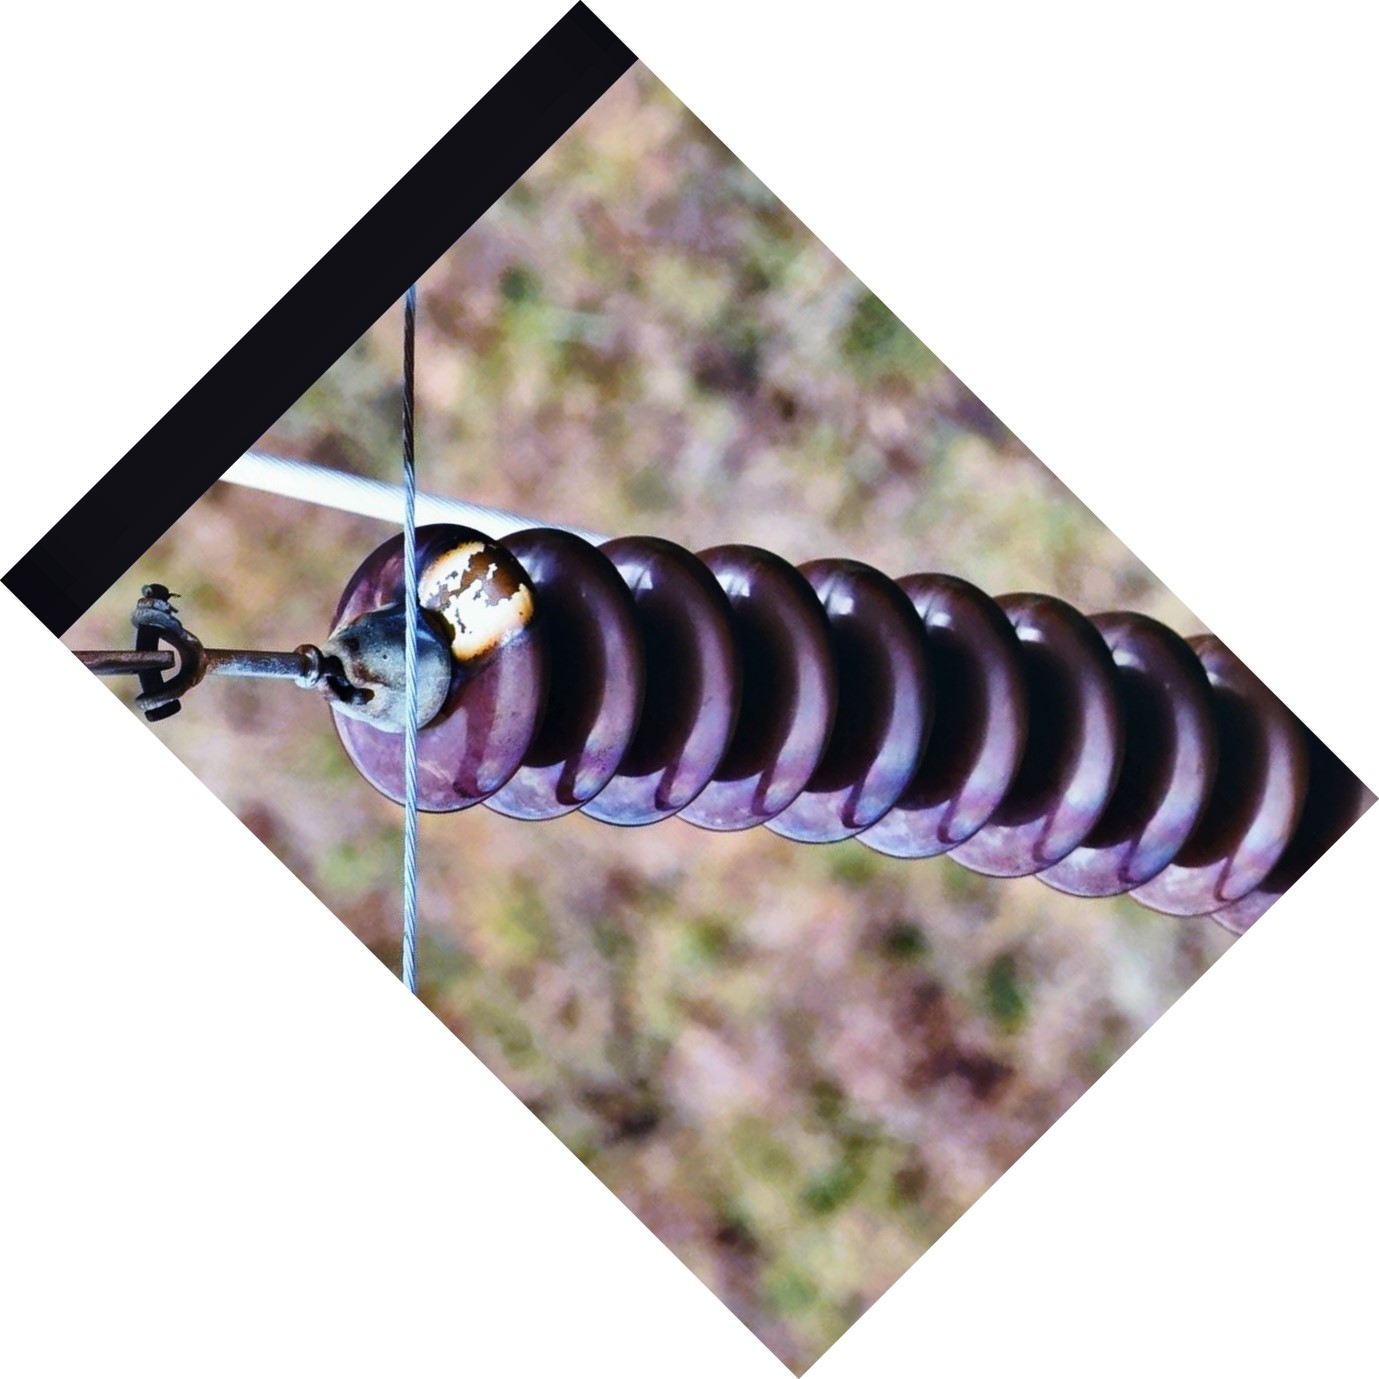Insulator flashover: (304, 516, 570, 820)
